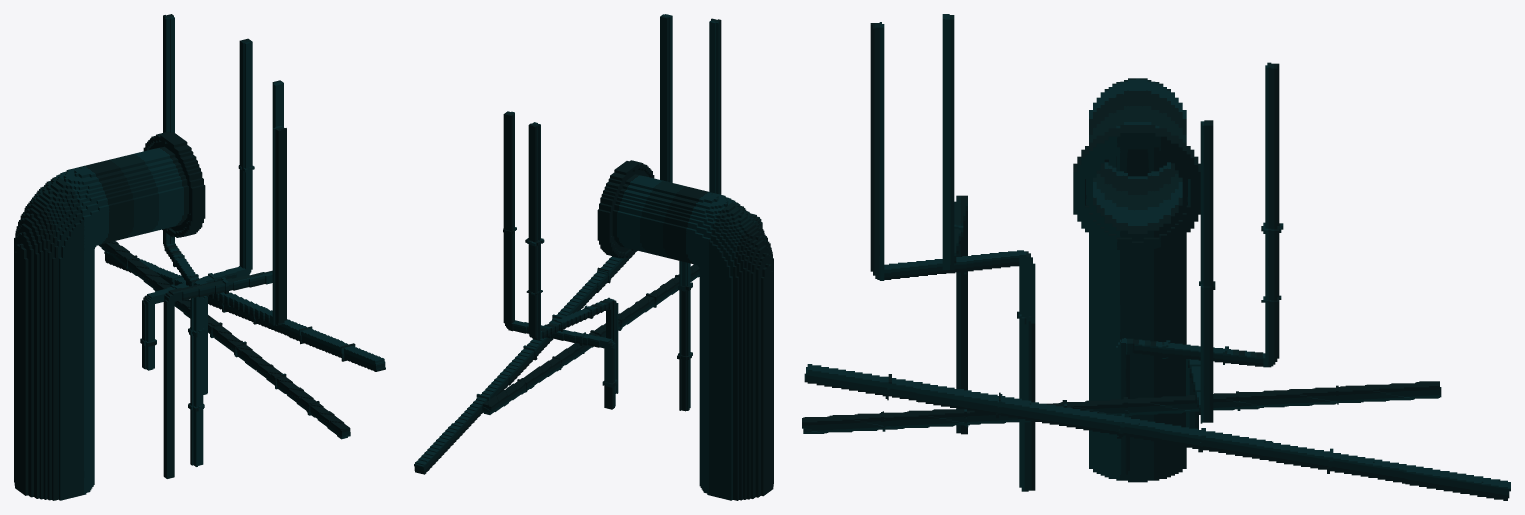
File: pipes.glb
The picture shows the model from 3 angles, left to right: view 1: azimuth 30°, elevation 25°; view 2: azimuth 150°, elevation 25°; view 3: azimuth 270°, elevation 25°; orthographic projection. The views are drawn at different scales.
Visible parts, largest first — view 1: Cylinder, Cube.004, Cube.003, Cube.005, Cube.006, Cube.007, Cube.002; view 2: Cylinder, Cube.002, Cube.003, Cube.004, Cube.007, Cube.006, Cube.005; view 3: Cylinder, Cube.007, Cube.006, Cube.004, Cube.002, Cube.005, Cube.003.
Boxes of the visible parts, x1,y1,x2,y2 form: Cylinder: [14, 131, 205, 500]; Cube.004: [188, 125, 286, 466]; Cube.003: [140, 38, 254, 370]; Cube.005: [163, 80, 283, 478]; Cube.006: [98, 241, 350, 439]; Cube.007: [104, 251, 385, 371]; Cube.002: [163, 14, 207, 394]; Cylinder: [597, 160, 773, 500]; Cube.002: [525, 122, 618, 393]; Cube.003: [503, 111, 617, 409]; Cube.004: [677, 18, 721, 411]; Cube.007: [414, 252, 635, 474]; Cube.006: [482, 264, 699, 414]; Cube.005: [660, 14, 762, 228]; Cylinder: [1073, 78, 1200, 482]; Cube.007: [804, 364, 1510, 500]; Cube.006: [802, 381, 1441, 433]; Cube.004: [870, 22, 1035, 491]; Cube.002: [1116, 62, 1283, 474]; Cube.005: [942, 14, 967, 434]; Cube.003: [1186, 120, 1215, 429].
Bounding box in the file's own units: 4.38 × 6.76 × 8.06.
1 material, 1 textured.
